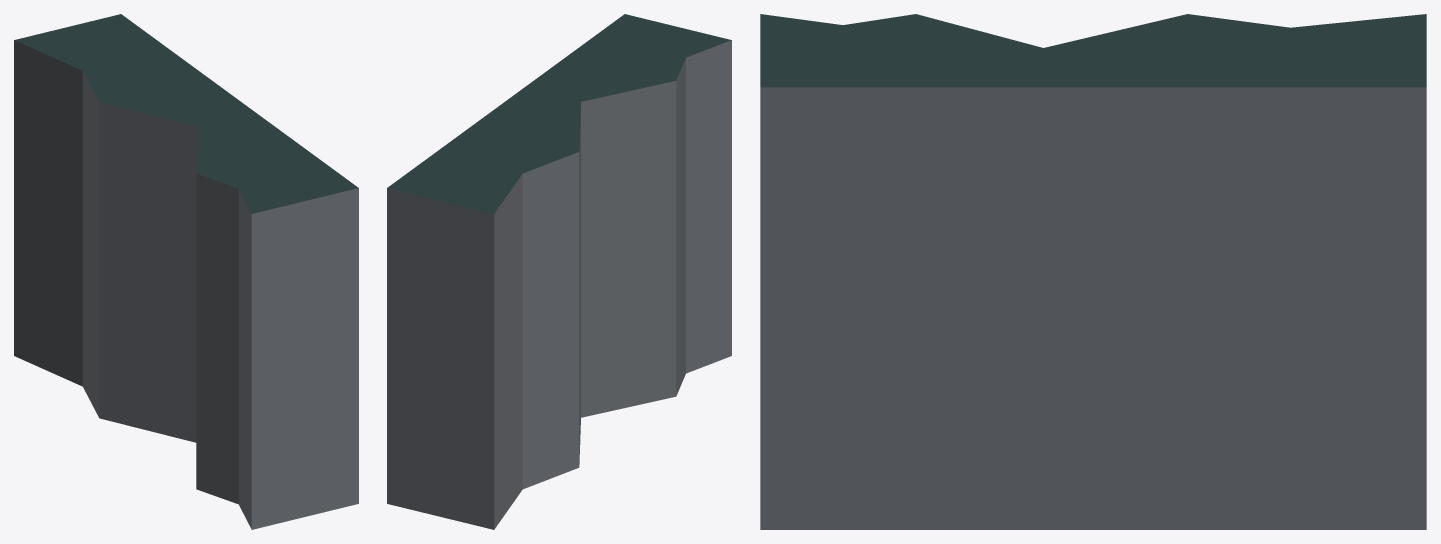
The model's file is Grey_Cliff_Green_Top_01.obj.
The picture shows the model from 3 angles, left to right: view 1: azimuth 30°, elevation 25°; view 2: azimuth 150°, elevation 25°; view 3: azimuth 270°, elevation 25°; orthographic projection. The views are drawn at different scales.
Visible parts, largest first — view 1: Mesh1_Grey_Cliff_Green_Top_Model; view 2: Mesh1_Grey_Cliff_Green_Top_Model; view 3: Mesh1_Grey_Cliff_Green_Top_Model.
Part boxes in pixels (bbox=[...]): Mesh1_Grey_Cliff_Green_Top_Model: bbox=[14, 14, 358, 529]; Mesh1_Grey_Cliff_Green_Top_Model: bbox=[387, 14, 731, 529]; Mesh1_Grey_Cliff_Green_Top_Model: bbox=[760, 14, 1426, 529].
Size of the model in its own units: 0.78 by 2.2 by 3.
